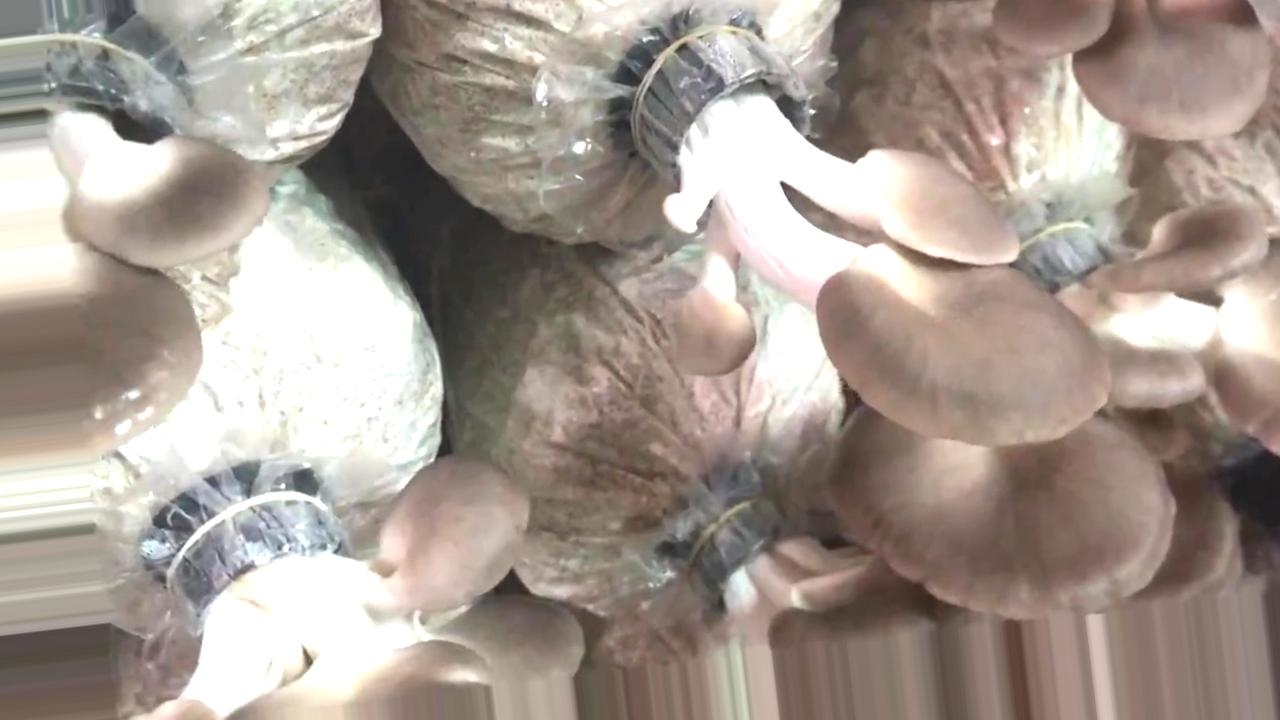nam: (639, 24, 1107, 445), (1, 1, 267, 468), (141, 457, 584, 720), (824, 400, 1175, 618), (1031, 196, 1280, 454), (992, 1, 1280, 139)
